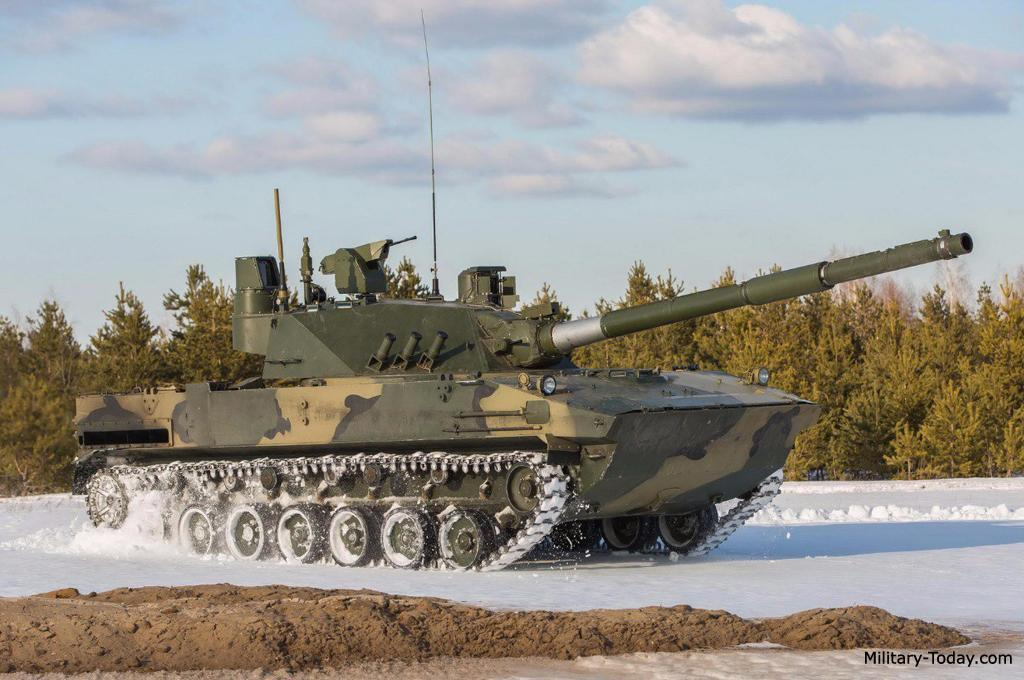tank: (75, 226, 976, 572)
